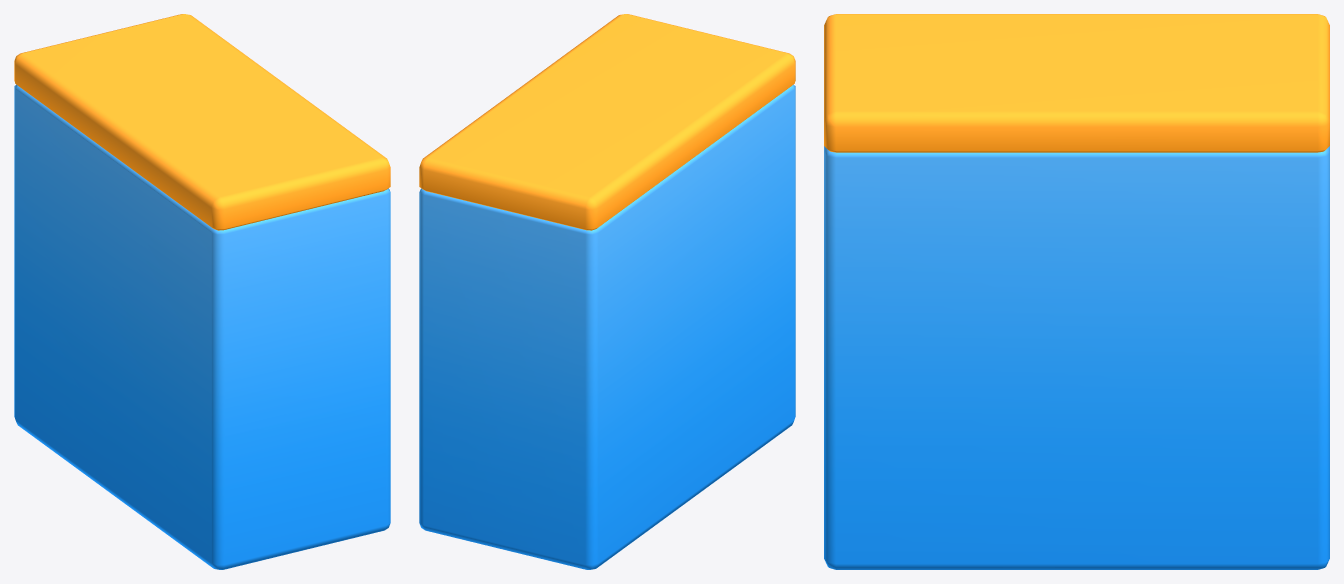
Rendered from Platform_24.glb.
3 views of the same model, side by side, from view 1: azimuth 30°, elevation 25°; view 2: azimuth 150°, elevation 25°; view 3: azimuth 270°, elevation 25° (orthographic). The views are drawn at different scales.
Parts seen in each view (by area): view 1: Platform_24; view 2: Platform_24; view 3: Platform_24.
Part boxes in pixels (x1,y1,x2,y2): Platform_24: (14, 14, 390, 569); Platform_24: (419, 14, 795, 569); Platform_24: (824, 14, 1329, 569).
Bounding box in the file's own units: 6 × 12 × 12.
1 material, 1 textured.
